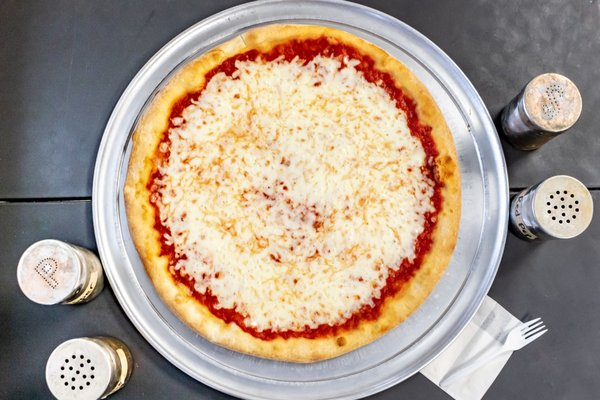sushi: (50, 4, 508, 391)
